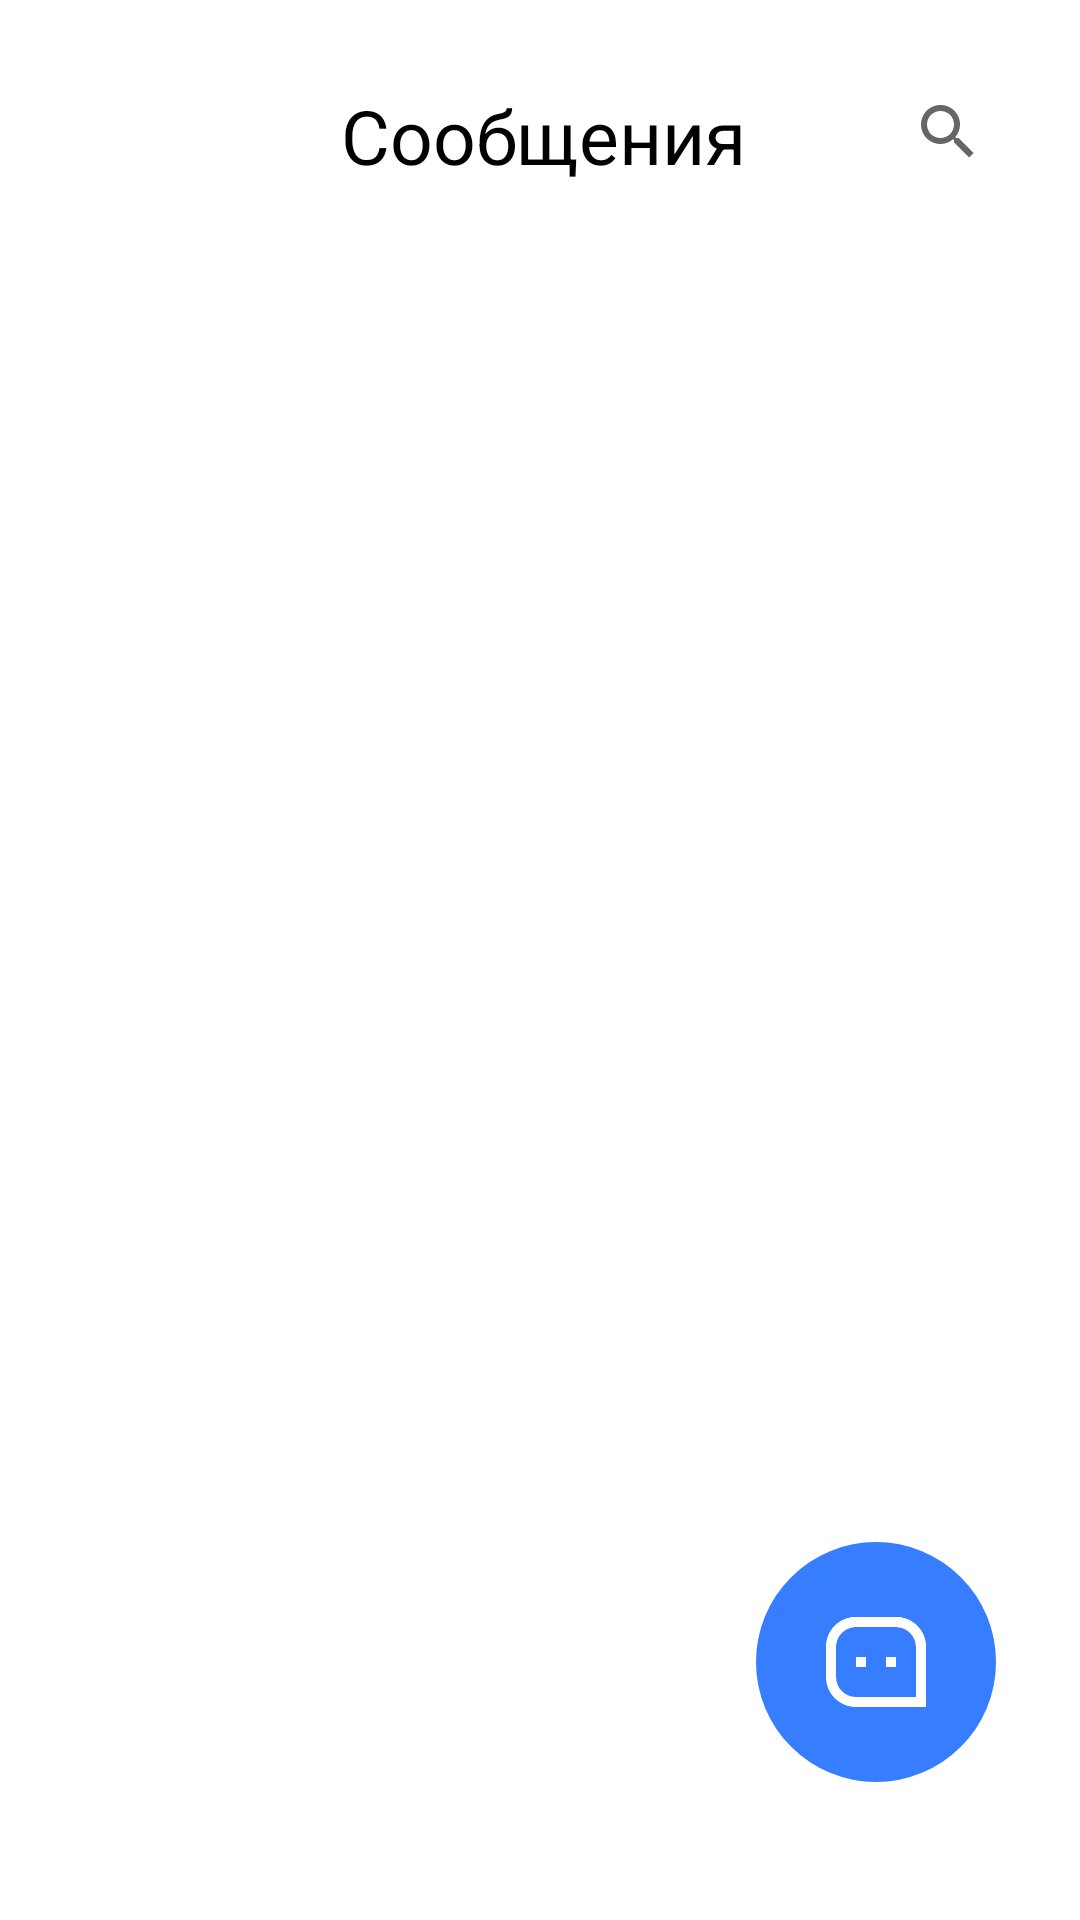

Locate icon controls on the screen. Image size 1080*1920, boxes as rect(x1, y1, x2, y2).
message: rect(756, 1542, 996, 1782)
